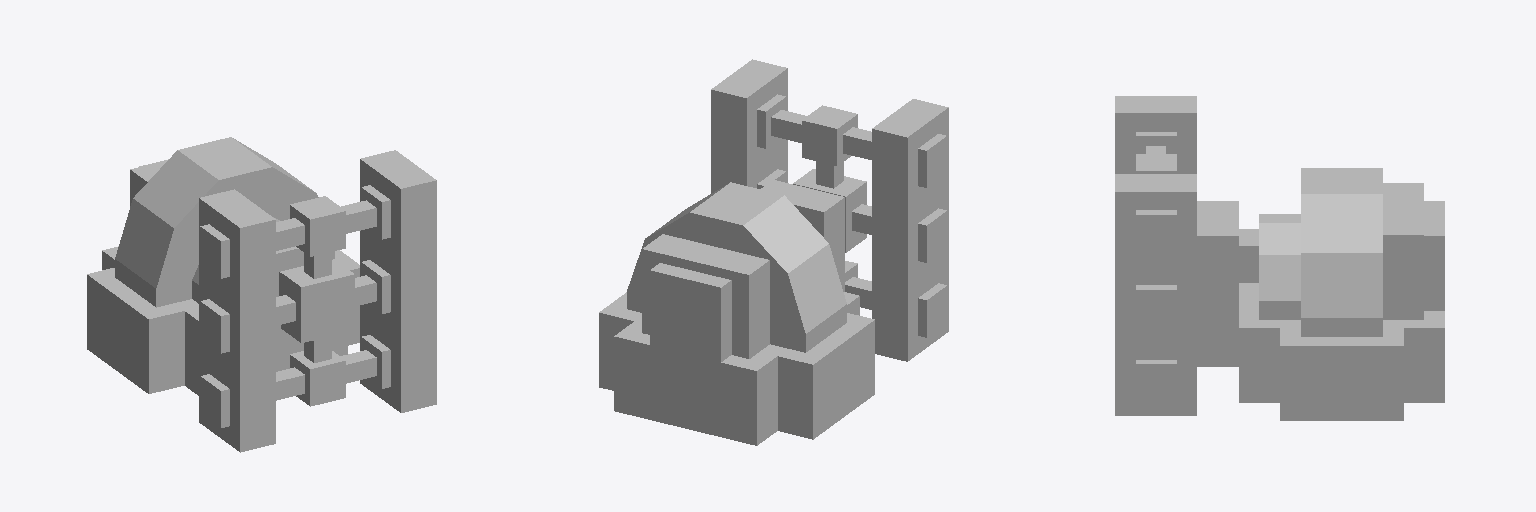
Rendered from alternator.obj.
3 renders of one model, left to right at view 1: azimuth 30°, elevation 25°; view 2: azimuth 150°, elevation 25°; view 3: azimuth 270°, elevation 25°, orthographic.
Parts seen in each view (by area): view 1: base; view 2: base; view 3: base.
Boxes of the visible parts, <box> form: base: <box>87,137,436,452</box>; base: <box>599,59,948,445</box>; base: <box>1115,96,1444,420</box>.
Bounding box in the file's own units: 3 × 3 × 4.